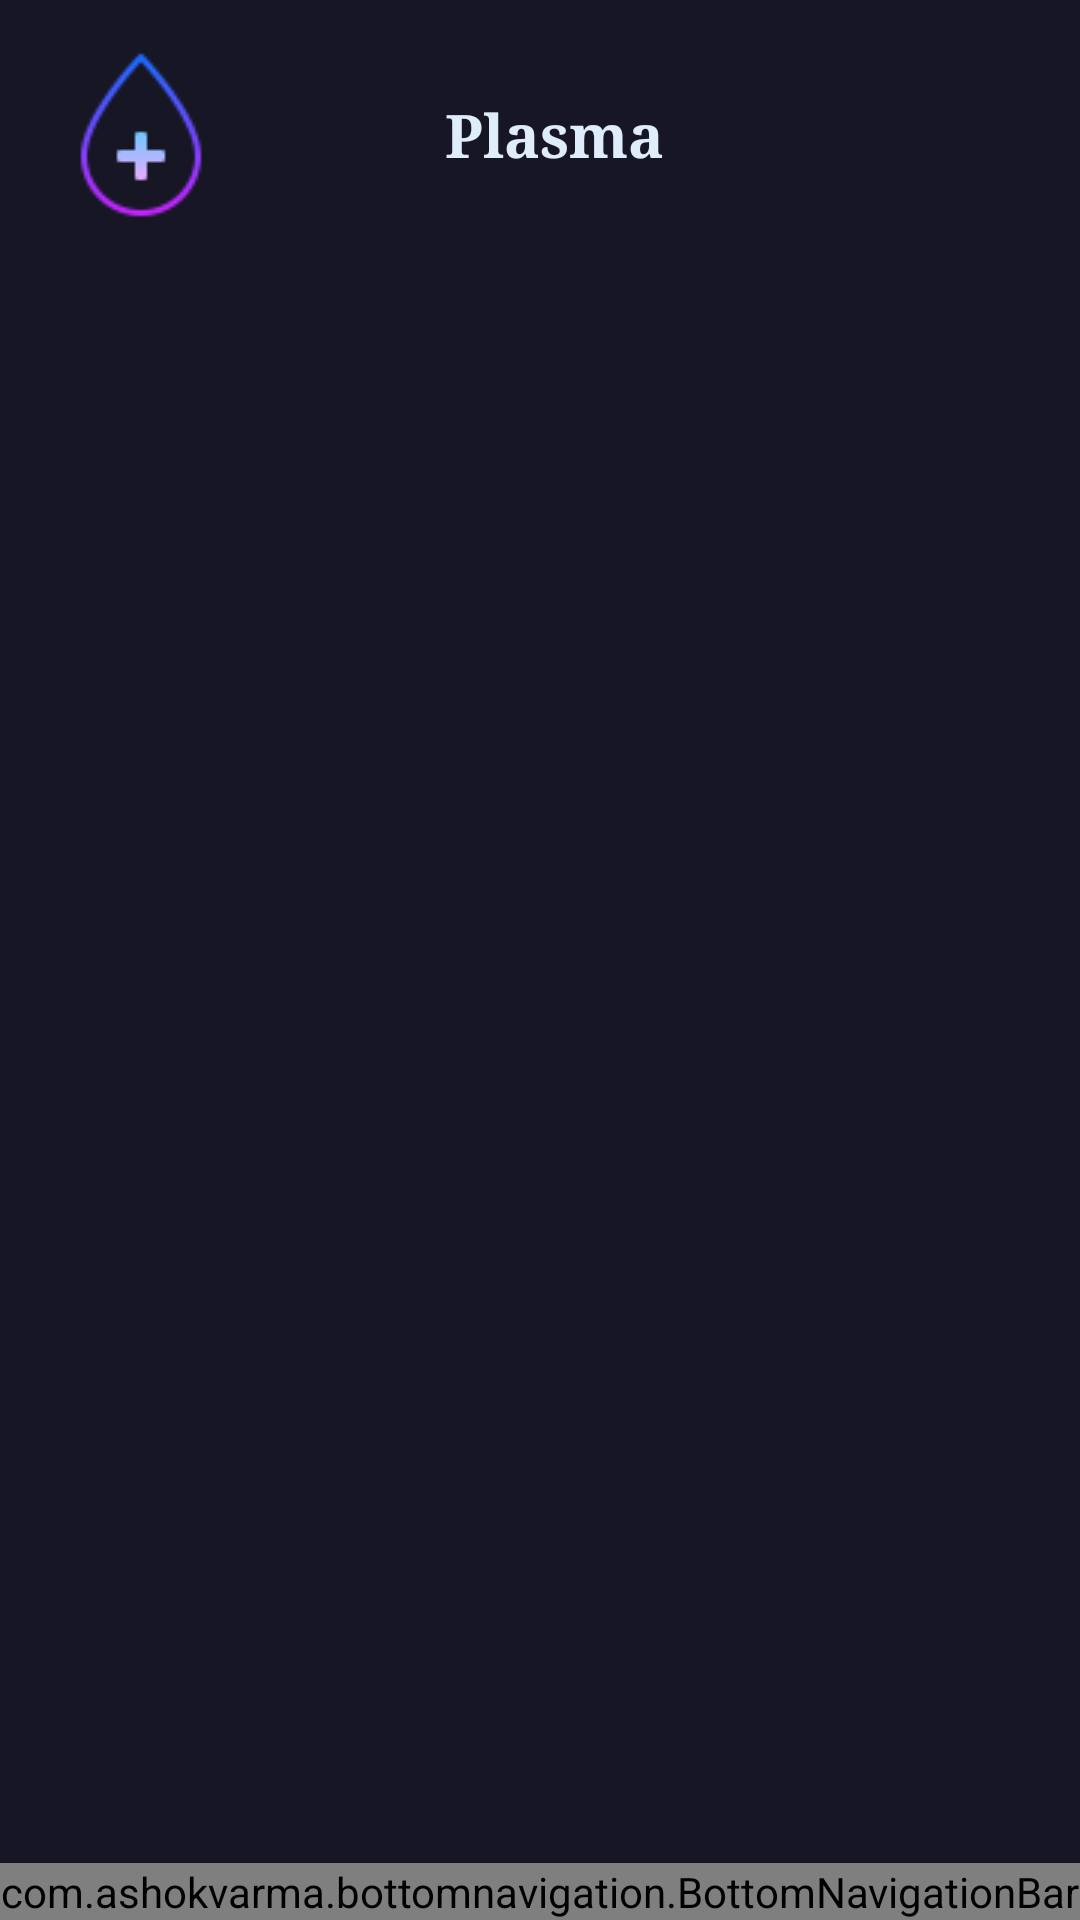

Screen size 1080px x 1920px. Icon name, then its center in pixels as (x=x, y=y):
plasma: (x=141, y=135)
